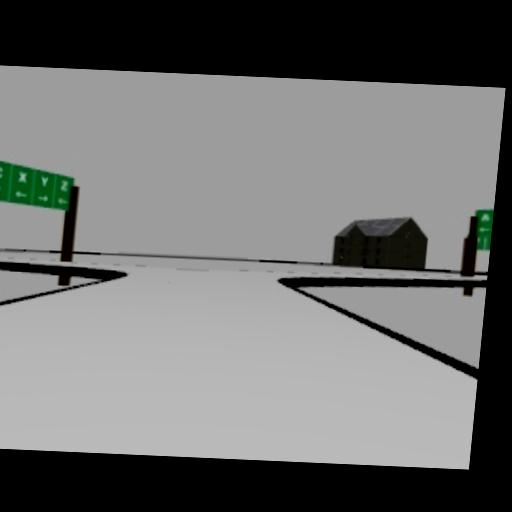C: (0, 164, 5, 179)
Left: (14, 189, 27, 199), (56, 197, 68, 206)
Right: (35, 194, 51, 203)
Straight: (0, 183, 3, 196)
X: (16, 172, 30, 184)
Y: (40, 176, 49, 188)
Z: (59, 179, 70, 192)
